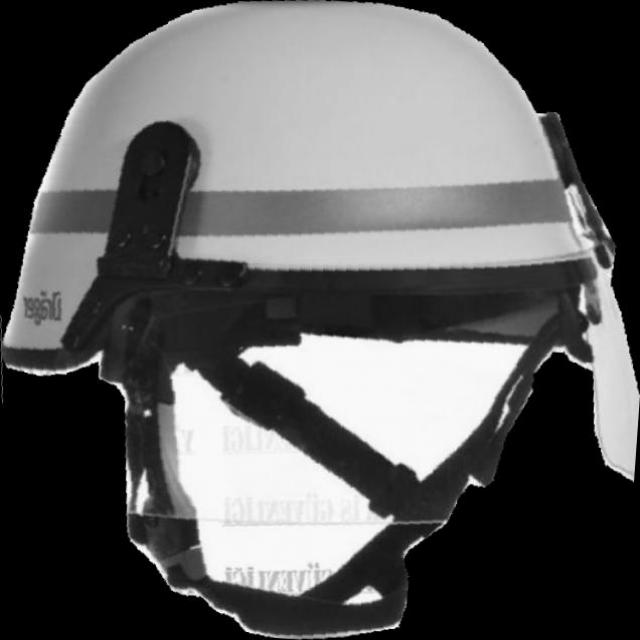construction helmet: (1, 0, 640, 640)
